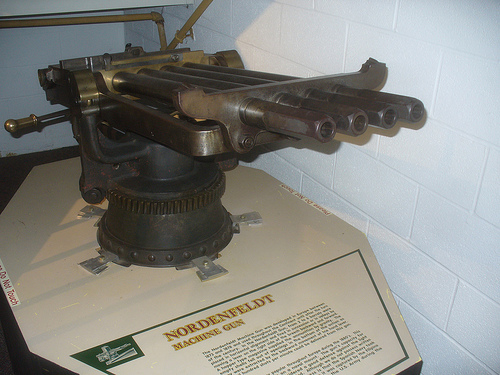rifle: (14, 12, 440, 276)
